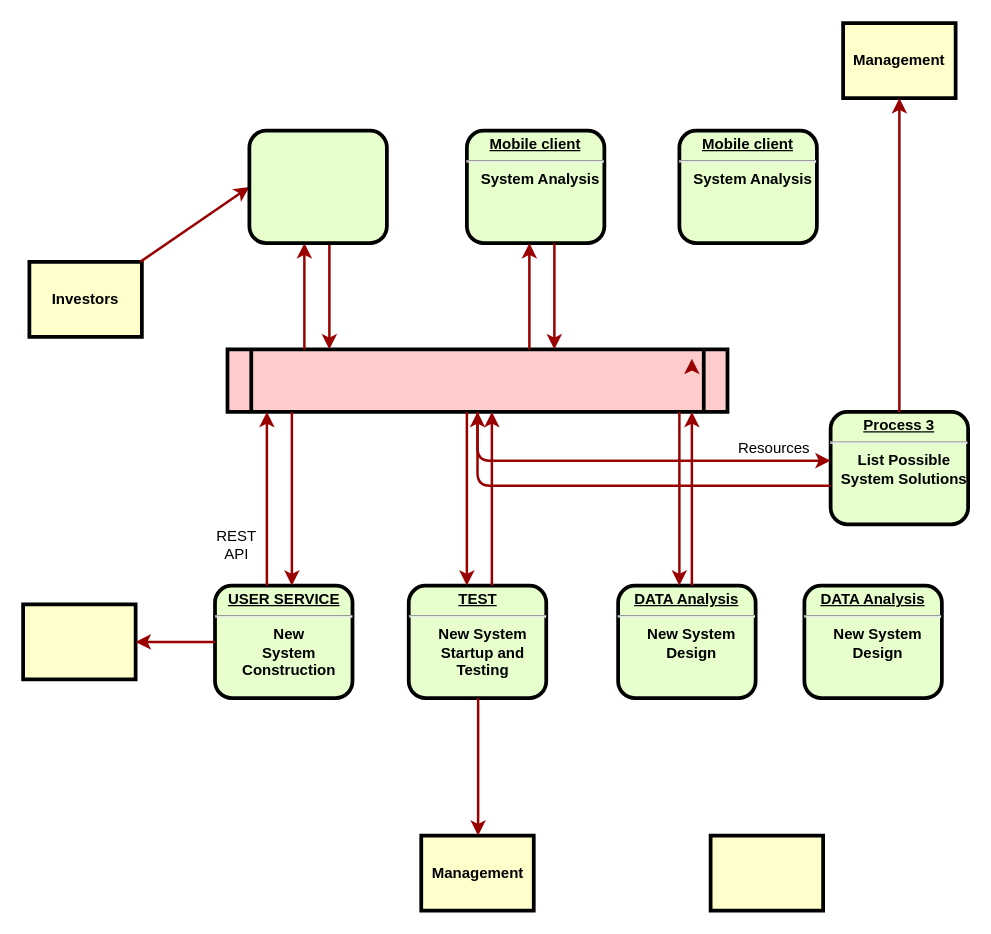
Some shapes in this 991 by 934 pixel diagram are drawn without their labels. Each missing label, with the box of its shape:
API GATEWAY: (225, 347, 729, 413)
Engineering: (21, 602, 137, 681)
Vendors: (708, 833, 824, 912)
Web UI System Analysis: (247, 128, 388, 244)
